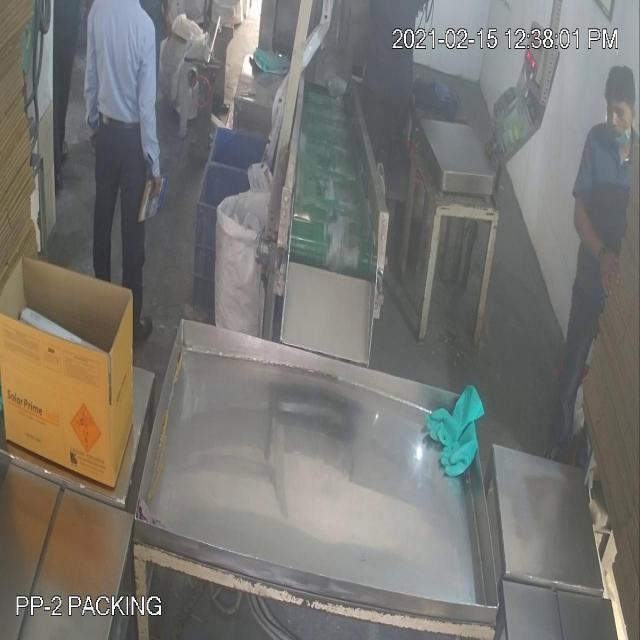No_Gloves: (32, 116, 597, 246)
